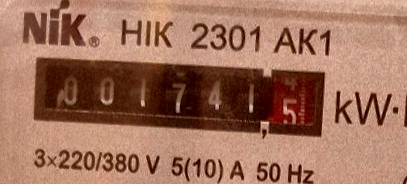0: (95, 72, 116, 108), (59, 73, 80, 107)
1: (131, 73, 150, 110), (241, 80, 258, 116)
4: (203, 76, 225, 112), (281, 73, 298, 93)
5: (277, 93, 298, 126)
7: (167, 78, 186, 115)
screen: (24, 44, 332, 147)
